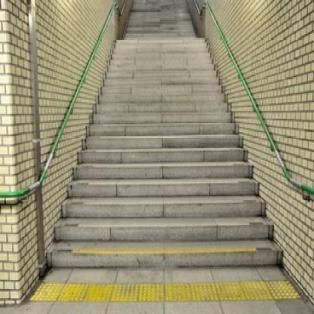Podoctatil: (0, 226, 314, 310)
